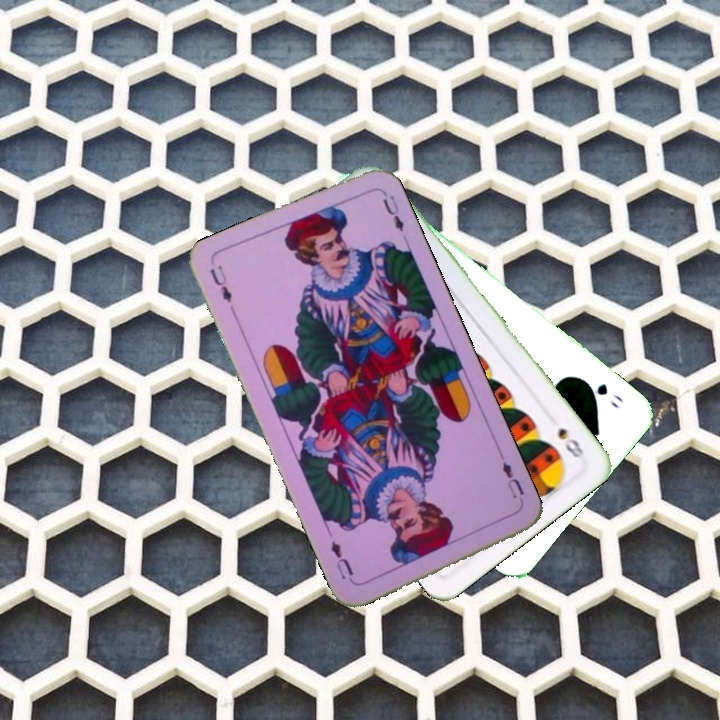EU: (496, 451, 527, 508), (205, 261, 235, 305)
GO: (578, 375, 625, 412)
S8: (554, 423, 587, 460)
